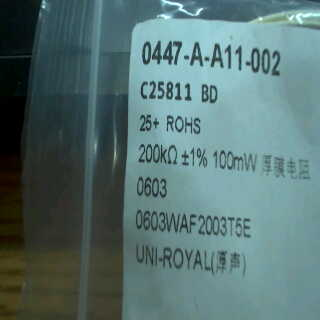200kR: (137, 141, 180, 169)
